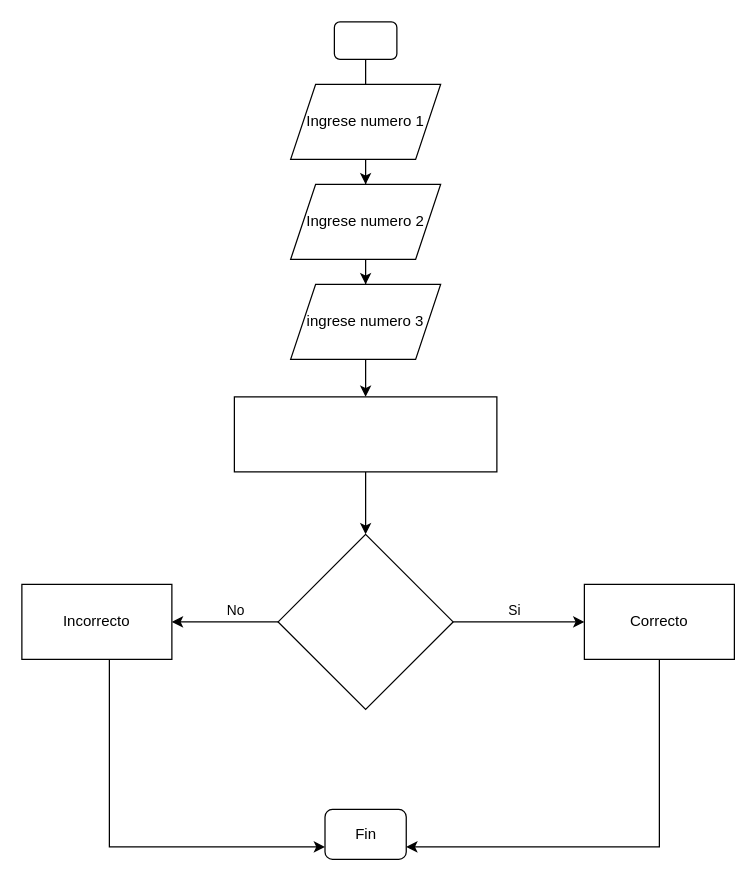
This 756x881 diagram has some shape labels left out. Each missing label, with the centre of its shape:
"Inicio" belongs at point (365, 40).
"suma = num1 + num2 + num3" belongs at point (365, 434).
"suma == 30 or num 1 == 30 or num2 == 30 or num3 == 30" belongs at point (365, 621).
